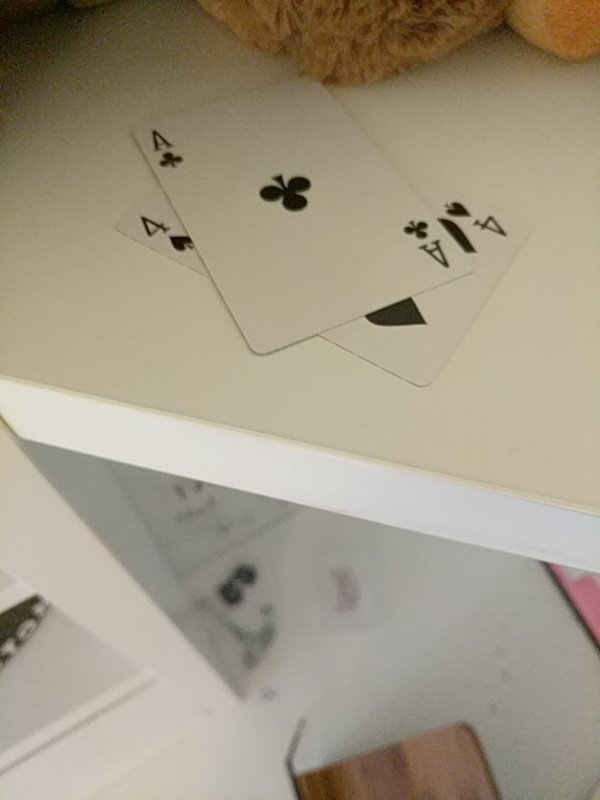Clubs: (134, 73, 470, 359)
Spades: (119, 158, 533, 387)
